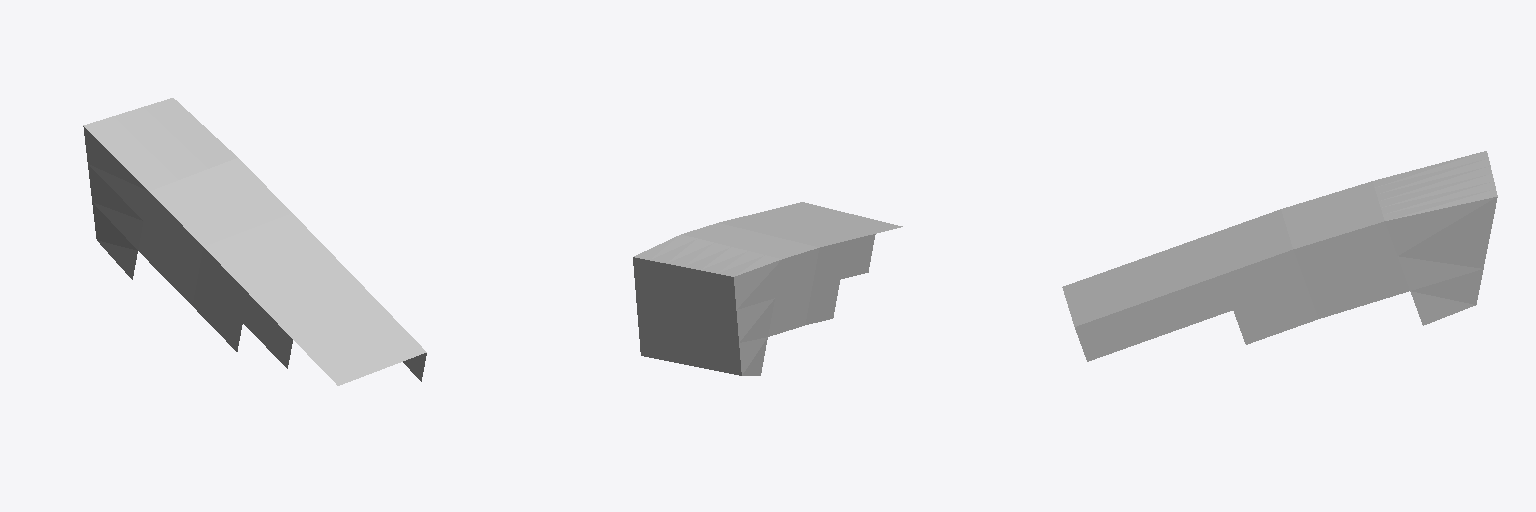
File: loop_ramp2.obj
The picture shows the model from 3 angles: view 1: azimuth 30°, elevation 25°; view 2: azimuth 150°, elevation 25°; view 3: azimuth 270°, elevation 25°; orthographic projection.
Visible parts, largest first — view 1: Cube.001_Cube.002; view 2: Cube.001_Cube.002; view 3: Cube.001_Cube.002.
Boxes of the visible parts, x1=… form: Cube.001_Cube.002: x1=83, y1=98, x2=426, y2=385; Cube.001_Cube.002: x1=633, y1=202, x2=902, y2=375; Cube.001_Cube.002: x1=1062, y1=151, x2=1497, y2=361.
Size of the model in its own units: 4.38 by 4.38 by 11.95.